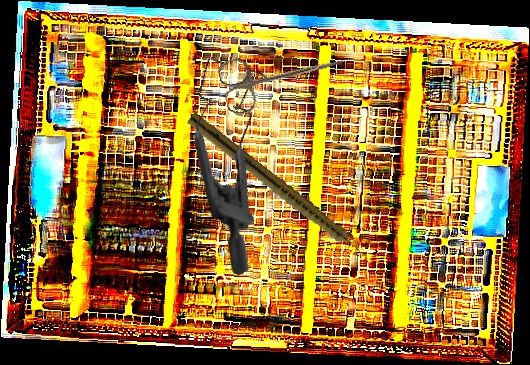Handpiece: (183, 111, 372, 264)
Iris Scissors: (215, 31, 351, 118)
Speculum: (125, 35, 354, 279)
